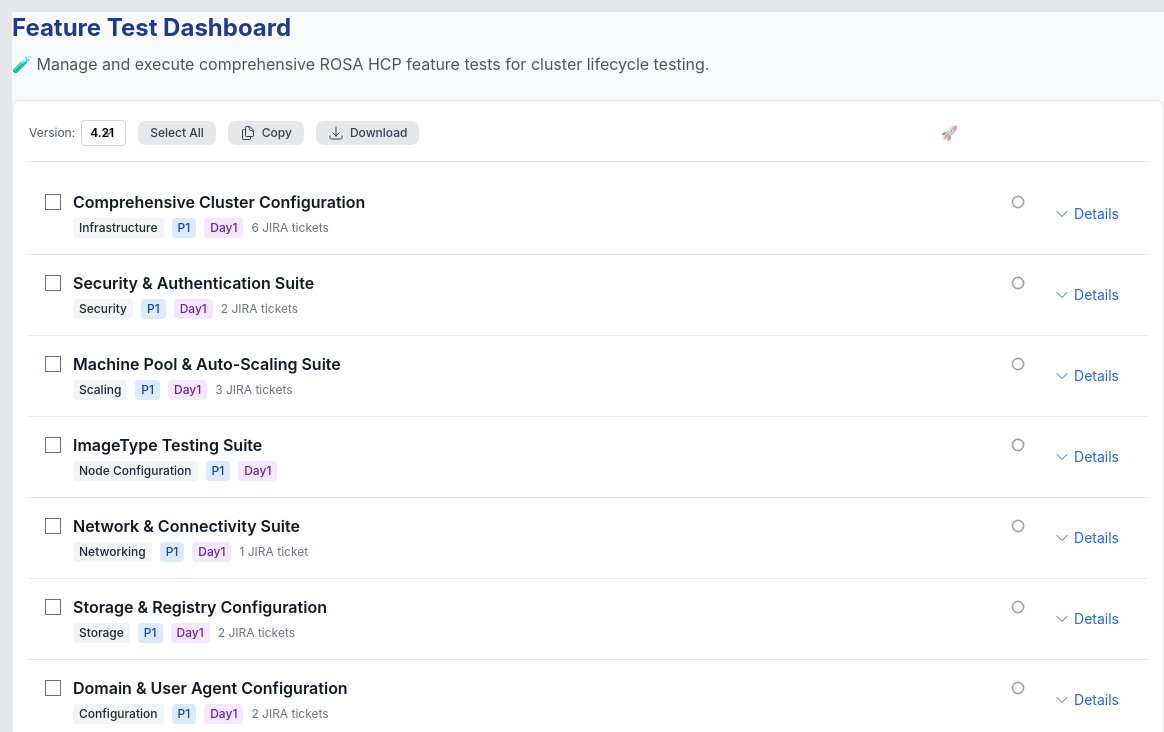
it: TestSuiteDashboard › select all button selects all tests
Click the button "Select All" at point(177, 133), box [138,121,216,145]
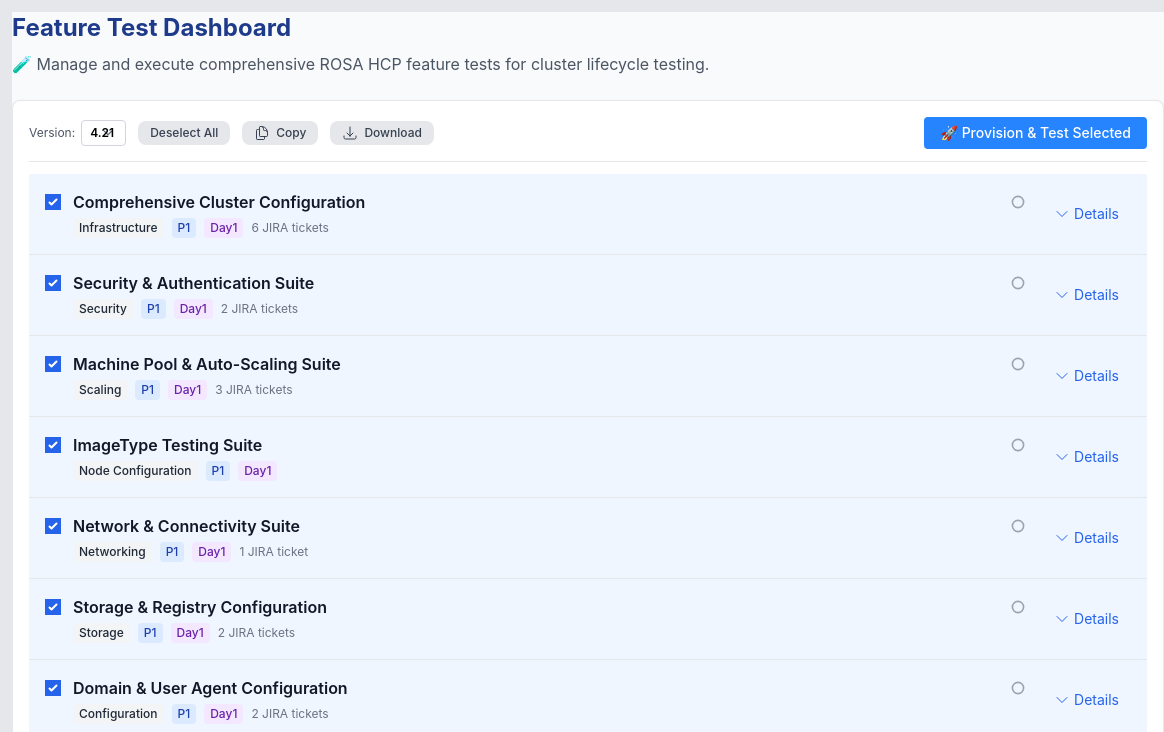
Check: the checkbox next to "Comprehensive Cluster Configuration" is checked, box [45,194,61,210]
Check: the checkbox next to "Security & Authentication Suite" is checked, box [45,275,61,291]
Check: the checkbox next to "Machine Pool & Auto-Scaling Suite" is checked, box [45,356,61,372]
